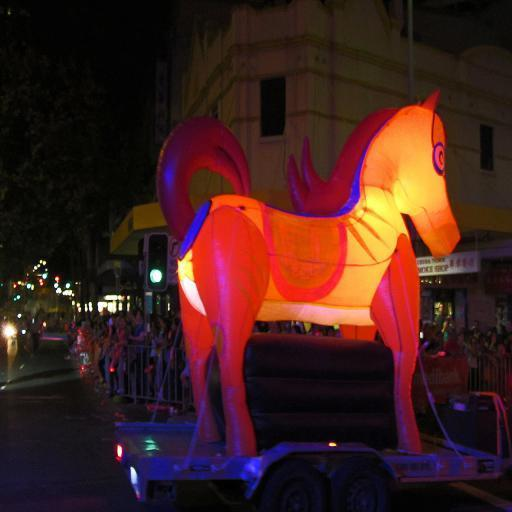horse: (177, 86, 463, 460)
